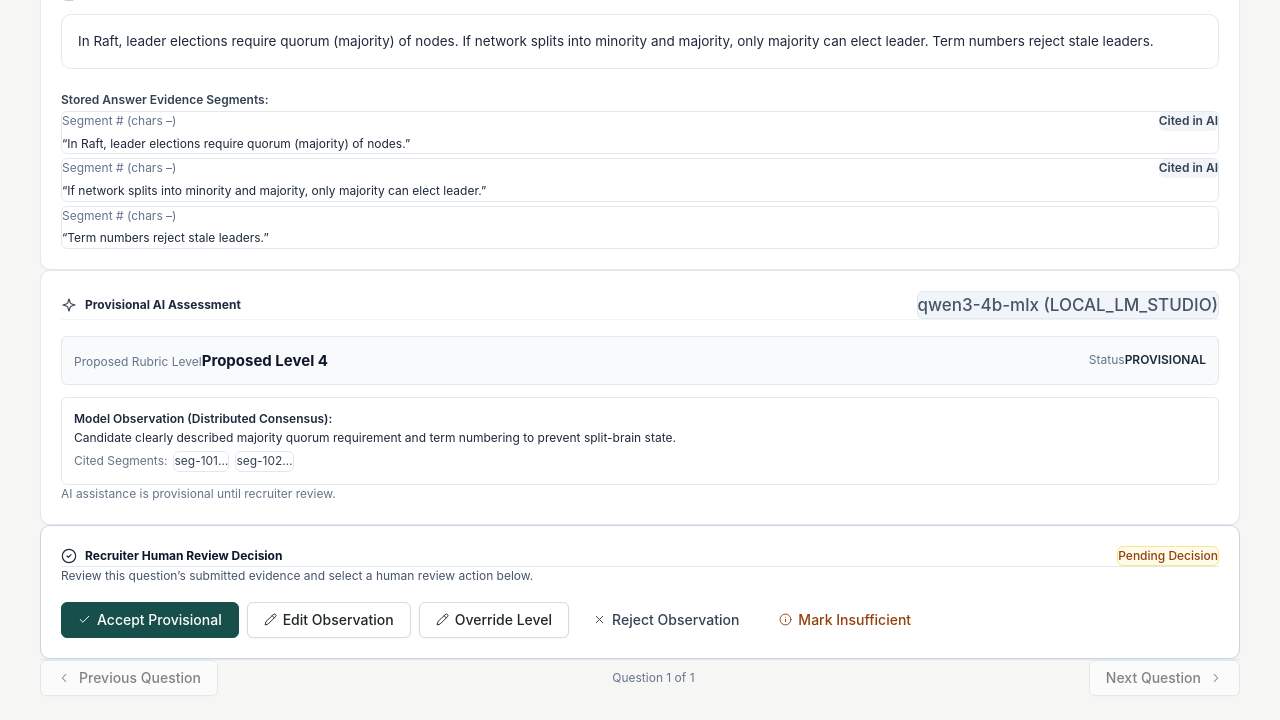
Test: Phase 3D.3 Frontend: AI-Curated Interview UI & Human Review Workspace › PART C & D: Override rubric level requires non-empty reason
The width and height of the screenshot is (1280, 720).
(page scrolled)
Step 1. Click the button "Override Level" → (494, 620), box [419,602,569,638]
(page scrolled)
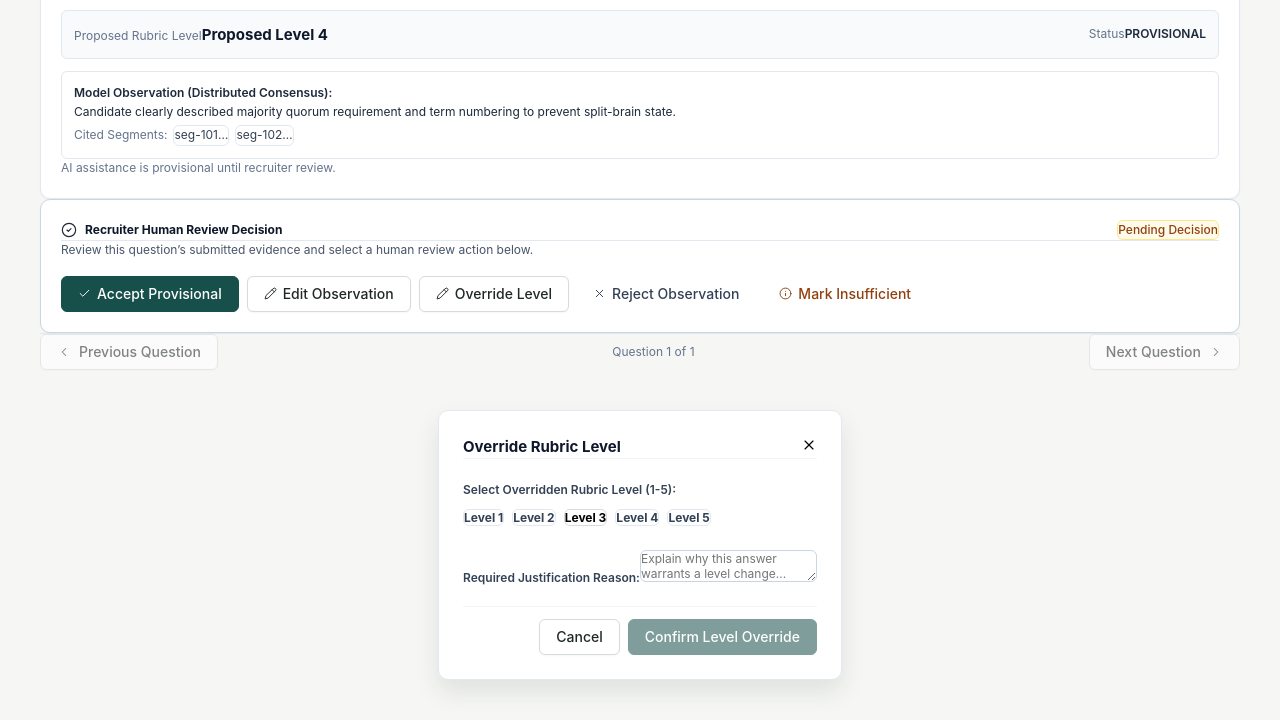
Result: the heading "Override Rubric Level" is shown at [463,435,621,458]
Result: the button "Confirm Level Override" is disabled at [628,619,817,655]
// Enter non-empty reason
Step 2. Type "Candidate only covered 2-node failure, not network partition recovery." into the text box with placeholder "Explain why this answer warrants a level change..." → (728, 566), box [640,550,817,582]
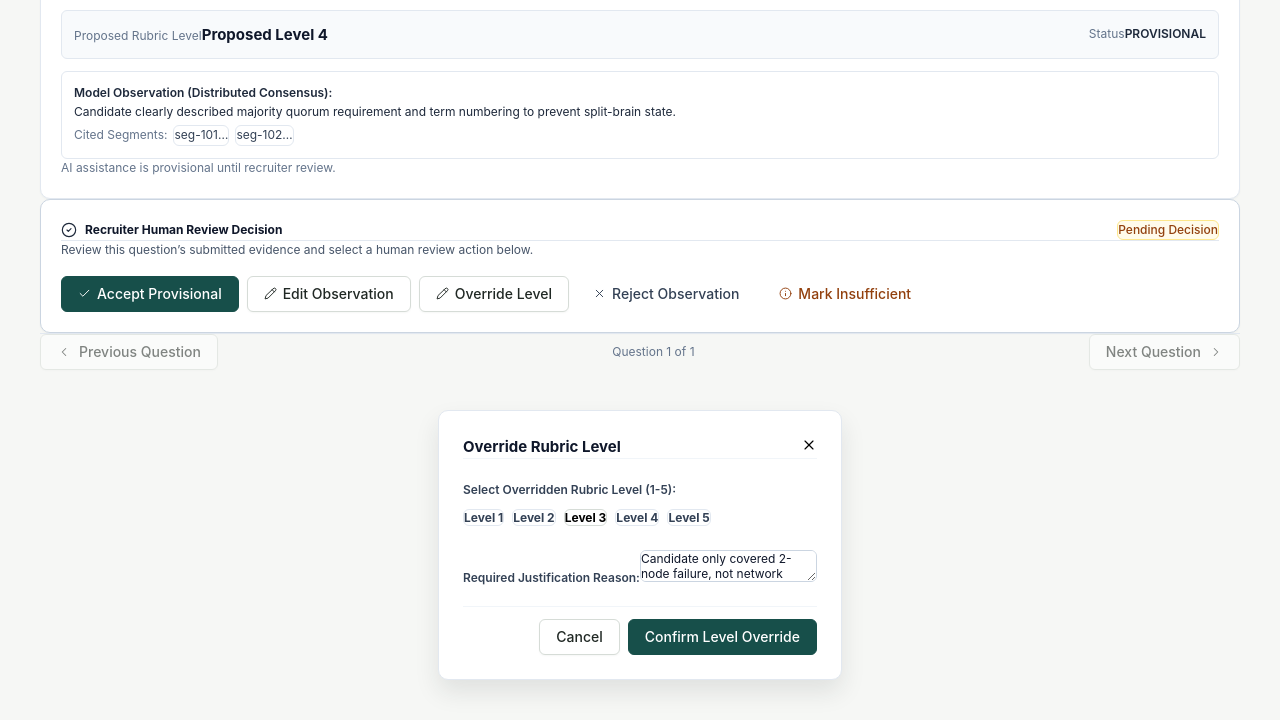
Result: the button "Confirm Level Override" is enabled at [628,619,817,655]
